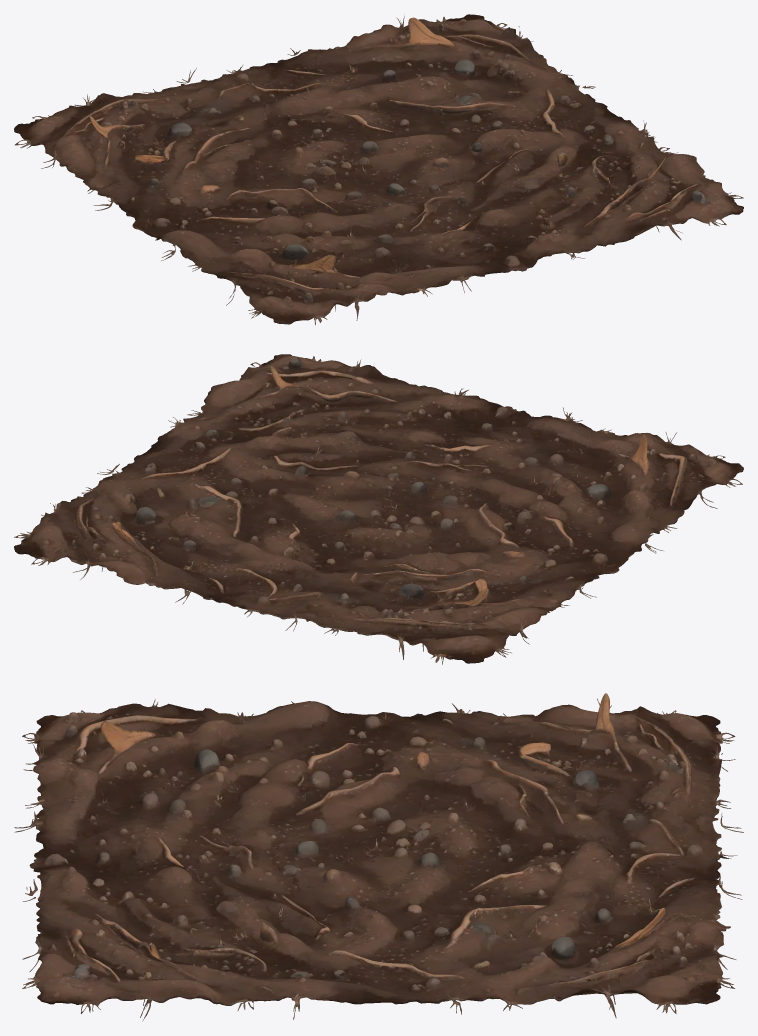
The model's file is ground.glb.
3 views of the same model, one above another, from view 1: azimuth 30°, elevation 25°; view 2: azimuth 150°, elevation 25°; view 3: azimuth 270°, elevation 25° (orthographic). The views are drawn at different scales.
Bounding box in the file's own units: 1.88 × 0.1894 × 1.89.
Materials: 1 (1 with a texture image).
